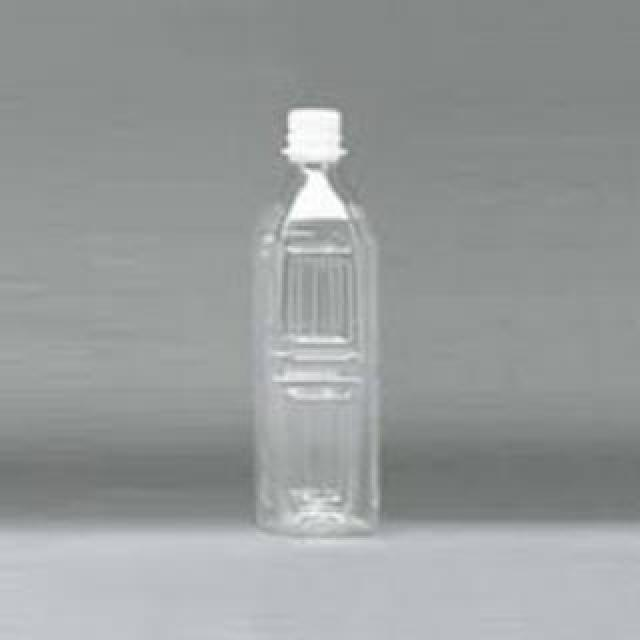Pet_Bottle: (243, 98, 393, 542)
